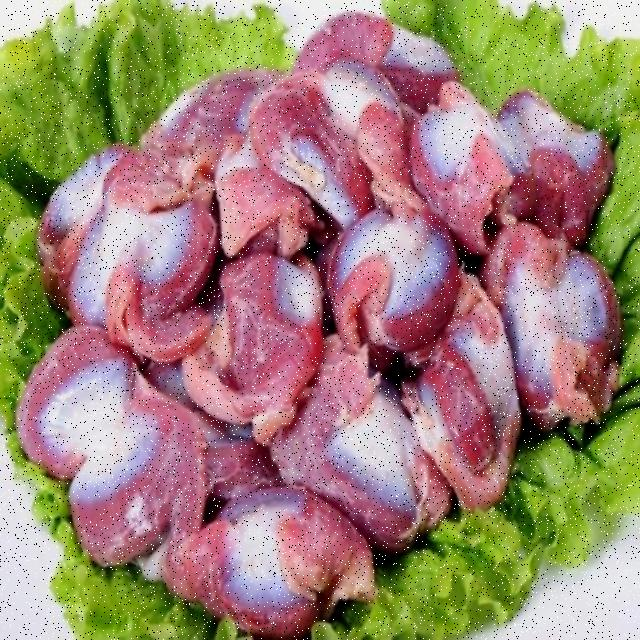Chicken Gizzards: (324, 2, 640, 549), (26, 36, 337, 582), (34, 107, 492, 467)
